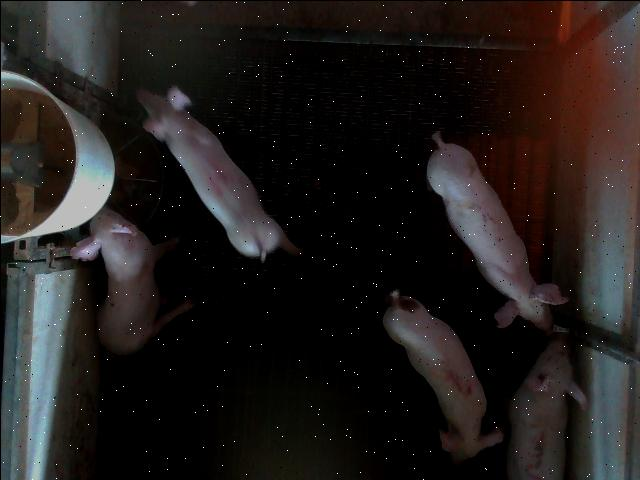pig-3: (502, 331, 586, 480)
pig-4: (136, 86, 301, 261)
pig-5: (382, 289, 504, 465)
